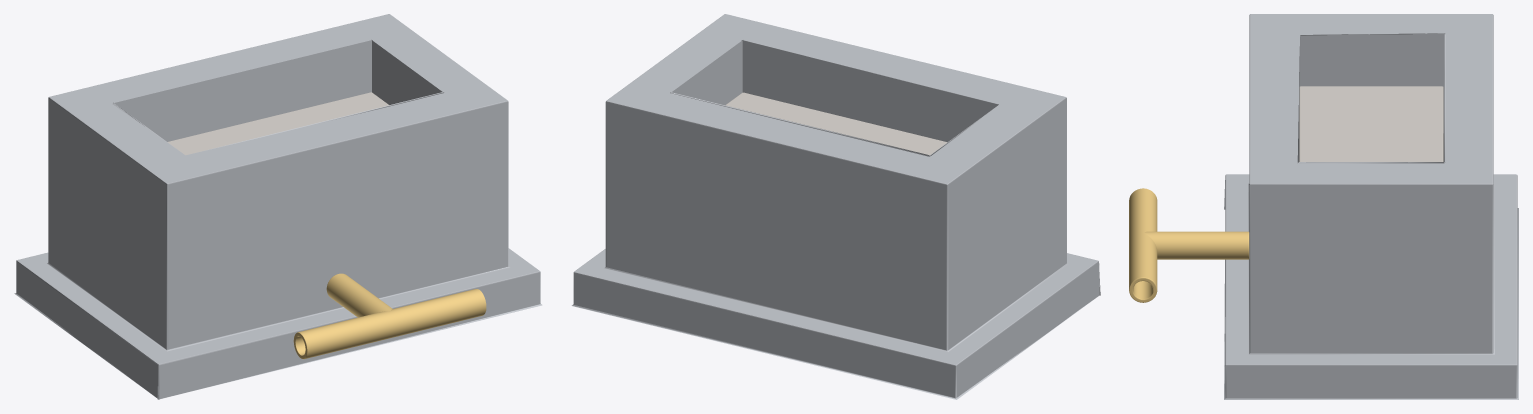
Rendered from mould65.glb.
The picture shows the model from 3 angles, left to right: view 1: azimuth 30°, elevation 25°; view 2: azimuth 150°, elevation 25°; view 3: azimuth 270°, elevation 25°; orthographic projection. The views are drawn at different scales.
Parts seen in each view (by area): view 1: MouldFrame, Handle, PressHead; view 2: MouldFrame, PressHead; view 3: MouldFrame, PressHead, Handle.
Boxes of the visible parts, box(x1,y1,x2,y2) form: MouldFrame: box(14, 14, 542, 399); Handle: box(293, 273, 486, 359); PressHead: box(168, 92, 388, 155); MouldFrame: box(571, 14, 1100, 399); PressHead: box(725, 92, 946, 155); MouldFrame: box(1224, 14, 1518, 399); PressHead: box(1299, 86, 1443, 161); Handle: box(1129, 188, 1249, 302).
Bounding box in the file's own units: 321 × 162 × 275.
